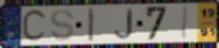7: (144, 5, 169, 42)
C: (21, 7, 49, 45)
I: (180, 6, 190, 41), (87, 7, 96, 43)
J: (114, 8, 134, 40)
S: (49, 8, 76, 43)
